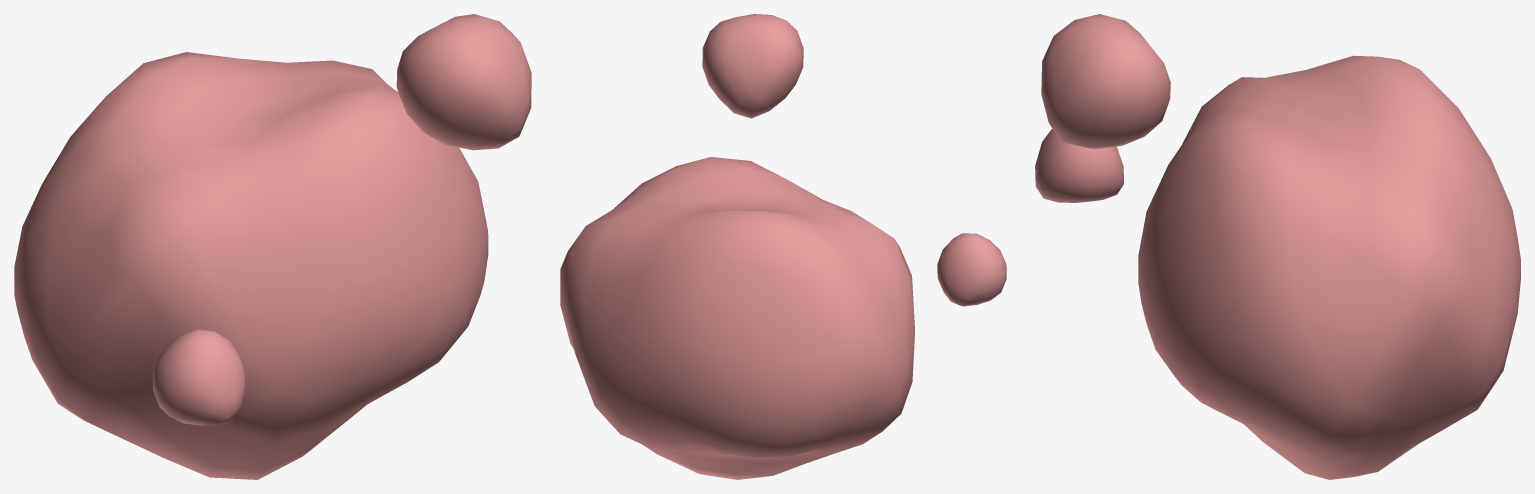
The model's file is Lubrifiant_Mesh.FBX.
The picture shows the model from 3 angles, left to right: view 1: azimuth 30°, elevation 25°; view 2: azimuth 150°, elevation 25°; view 3: azimuth 270°, elevation 25°; orthographic projection. The views are drawn at different scales.
Parts seen in each view (by area): view 1: GeoSphere001, GeoSphere003, GeoSphere002; view 2: GeoSphere001, GeoSphere003, GeoSphere002; view 3: GeoSphere001, GeoSphere003, GeoSphere002.
Boxes of the visible parts, x1,y1,x2,y2 form: GeoSphere001: (14, 52, 488, 479); GeoSphere003: (396, 14, 531, 150); GeoSphere002: (152, 328, 245, 425); GeoSphere001: (560, 157, 914, 479); GeoSphere003: (702, 14, 803, 118); GeoSphere002: (937, 233, 1006, 306); GeoSphere001: (1138, 55, 1520, 479); GeoSphere003: (1041, 14, 1170, 149); GeoSphere002: (1035, 129, 1123, 202).
Bounding box in the file's own units: 28.96 × 32.18 × 29.05.
